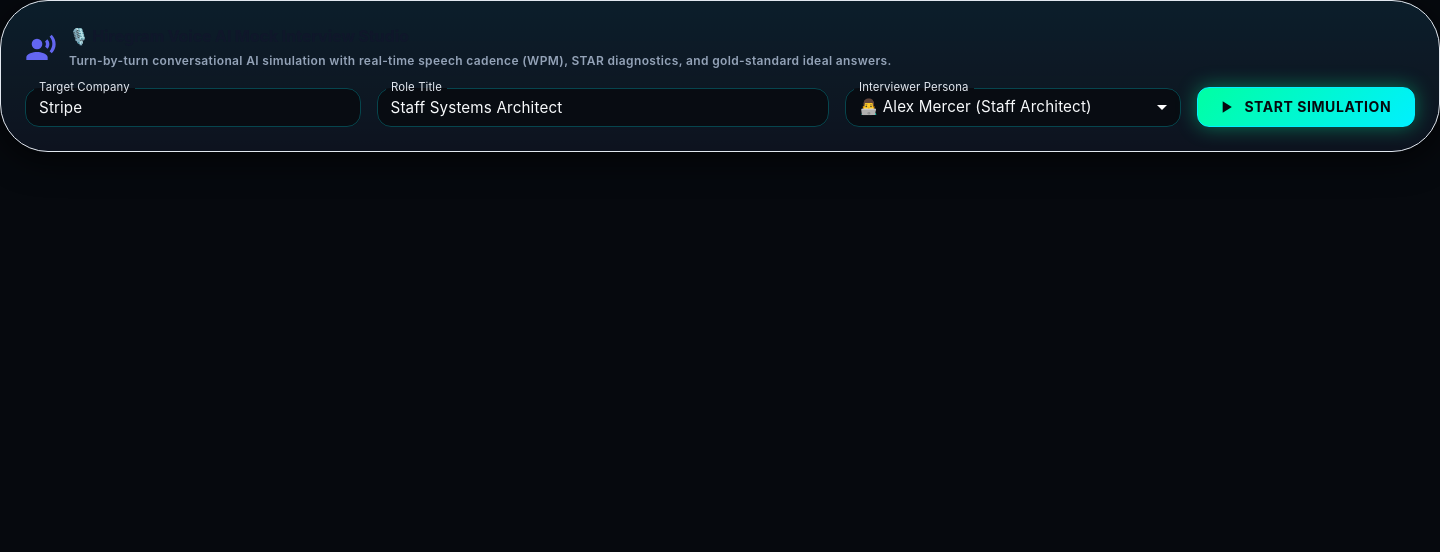
Test case: HiregramStudio Component › starts mock interview session and initializes dialogue turn
The image size is (1440, 552).
Click the button "Start Simulation".
click(1306, 107)  # box [1197,87,1415,127]
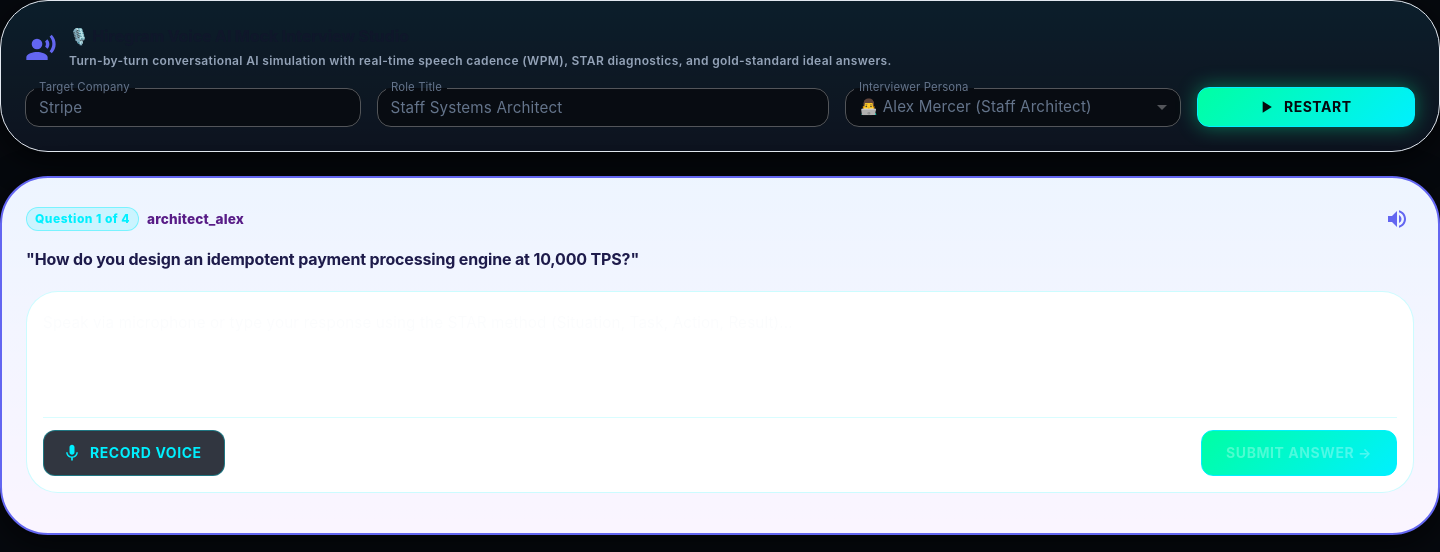
Expected: the heading "How do you design an idempotent payment processing engine at 10,000 TPS?" is shown, [35,249,630,269]
